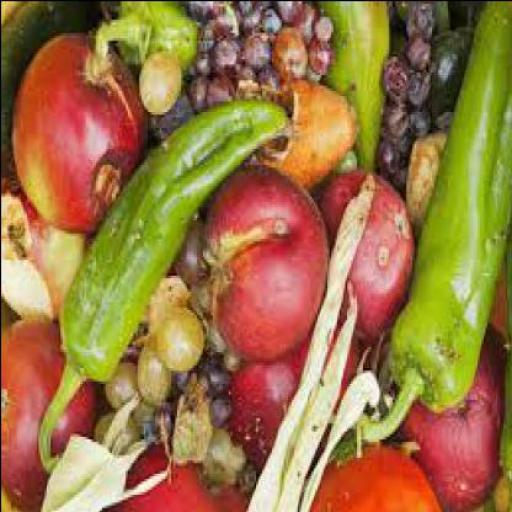biodegradable: (1, 1, 511, 511), (39, 104, 293, 478), (362, 2, 511, 447), (248, 176, 378, 511), (14, 32, 148, 238), (199, 167, 330, 361), (225, 325, 382, 473), (272, 284, 364, 511), (398, 325, 507, 511), (230, 323, 358, 475), (1, 321, 101, 511), (318, 177, 419, 349), (2, 3, 93, 182), (43, 399, 174, 511), (2, 182, 85, 328), (300, 374, 386, 511), (255, 82, 362, 192), (306, 446, 444, 510), (91, 2, 199, 76), (122, 450, 251, 511), (485, 231, 511, 511), (405, 132, 449, 242), (168, 372, 214, 467), (135, 279, 191, 351), (390, 2, 454, 60), (430, 32, 476, 111), (156, 308, 206, 372), (140, 52, 184, 119), (150, 90, 196, 148), (174, 219, 211, 291), (206, 433, 248, 494), (95, 414, 144, 462), (138, 348, 176, 406), (152, 90, 196, 140), (132, 396, 170, 446), (273, 29, 308, 82), (107, 364, 142, 411), (380, 126, 416, 164), (382, 55, 408, 106), (215, 40, 245, 82), (200, 362, 232, 401), (407, 2, 437, 42), (188, 280, 217, 319), (212, 2, 241, 40), (330, 430, 360, 465), (403, 39, 433, 74), (206, 76, 238, 108), (229, 68, 261, 100), (385, 102, 411, 140), (204, 322, 230, 359), (310, 40, 336, 76), (298, 2, 322, 40), (188, 79, 210, 119), (377, 142, 402, 177), (409, 74, 433, 108), (200, 18, 220, 58), (211, 398, 233, 433), (409, 111, 433, 143), (260, 76, 285, 104), (188, 3, 216, 27), (192, 52, 214, 82), (275, 3, 302, 27), (388, 2, 405, 37), (225, 356, 249, 380), (263, 16, 285, 42), (176, 374, 198, 399), (396, 2, 415, 30), (314, 21, 336, 45), (338, 153, 362, 174), (1, 491, 25, 511), (241, 470, 257, 499), (243, 16, 263, 37), (391, 161, 405, 190), (279, 82, 292, 108), (439, 116, 455, 135), (235, 5, 255, 18), (308, 74, 324, 84), (257, 3, 269, 11)
